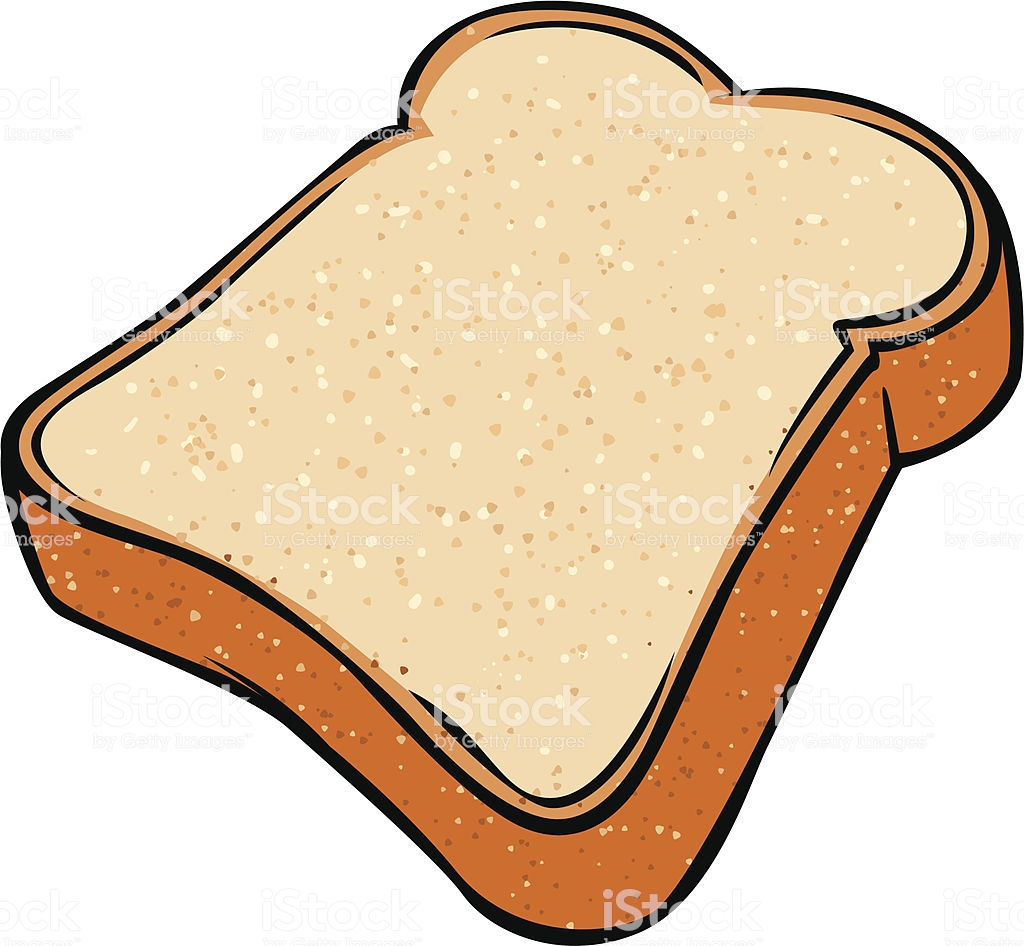slice of bread: (116, 9, 961, 858)
